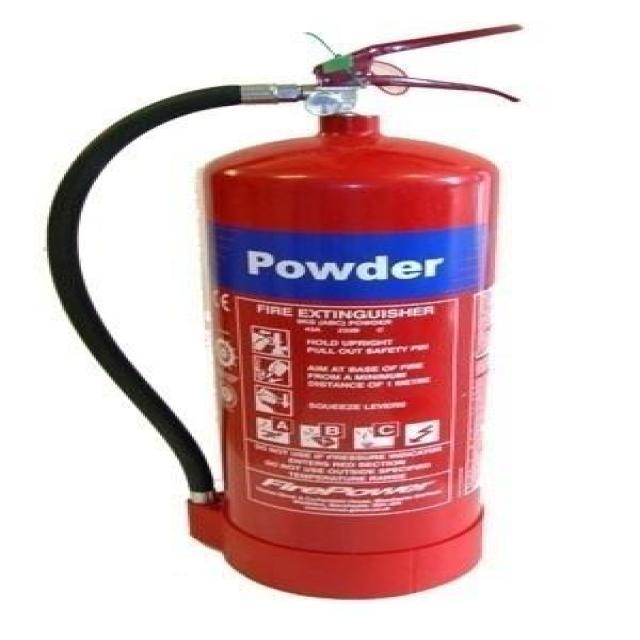fire_extinguisher: (29, 17, 541, 606)
